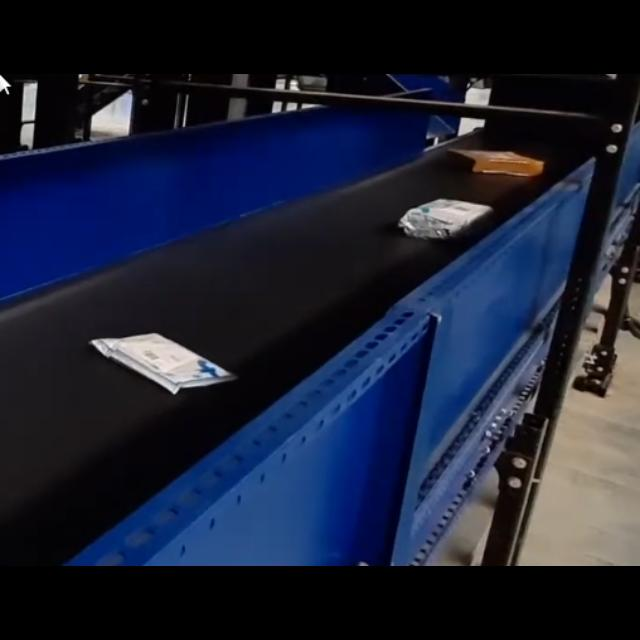box: (448, 148, 544, 178)
mailer: (96, 333, 237, 395), (405, 199, 495, 243)
